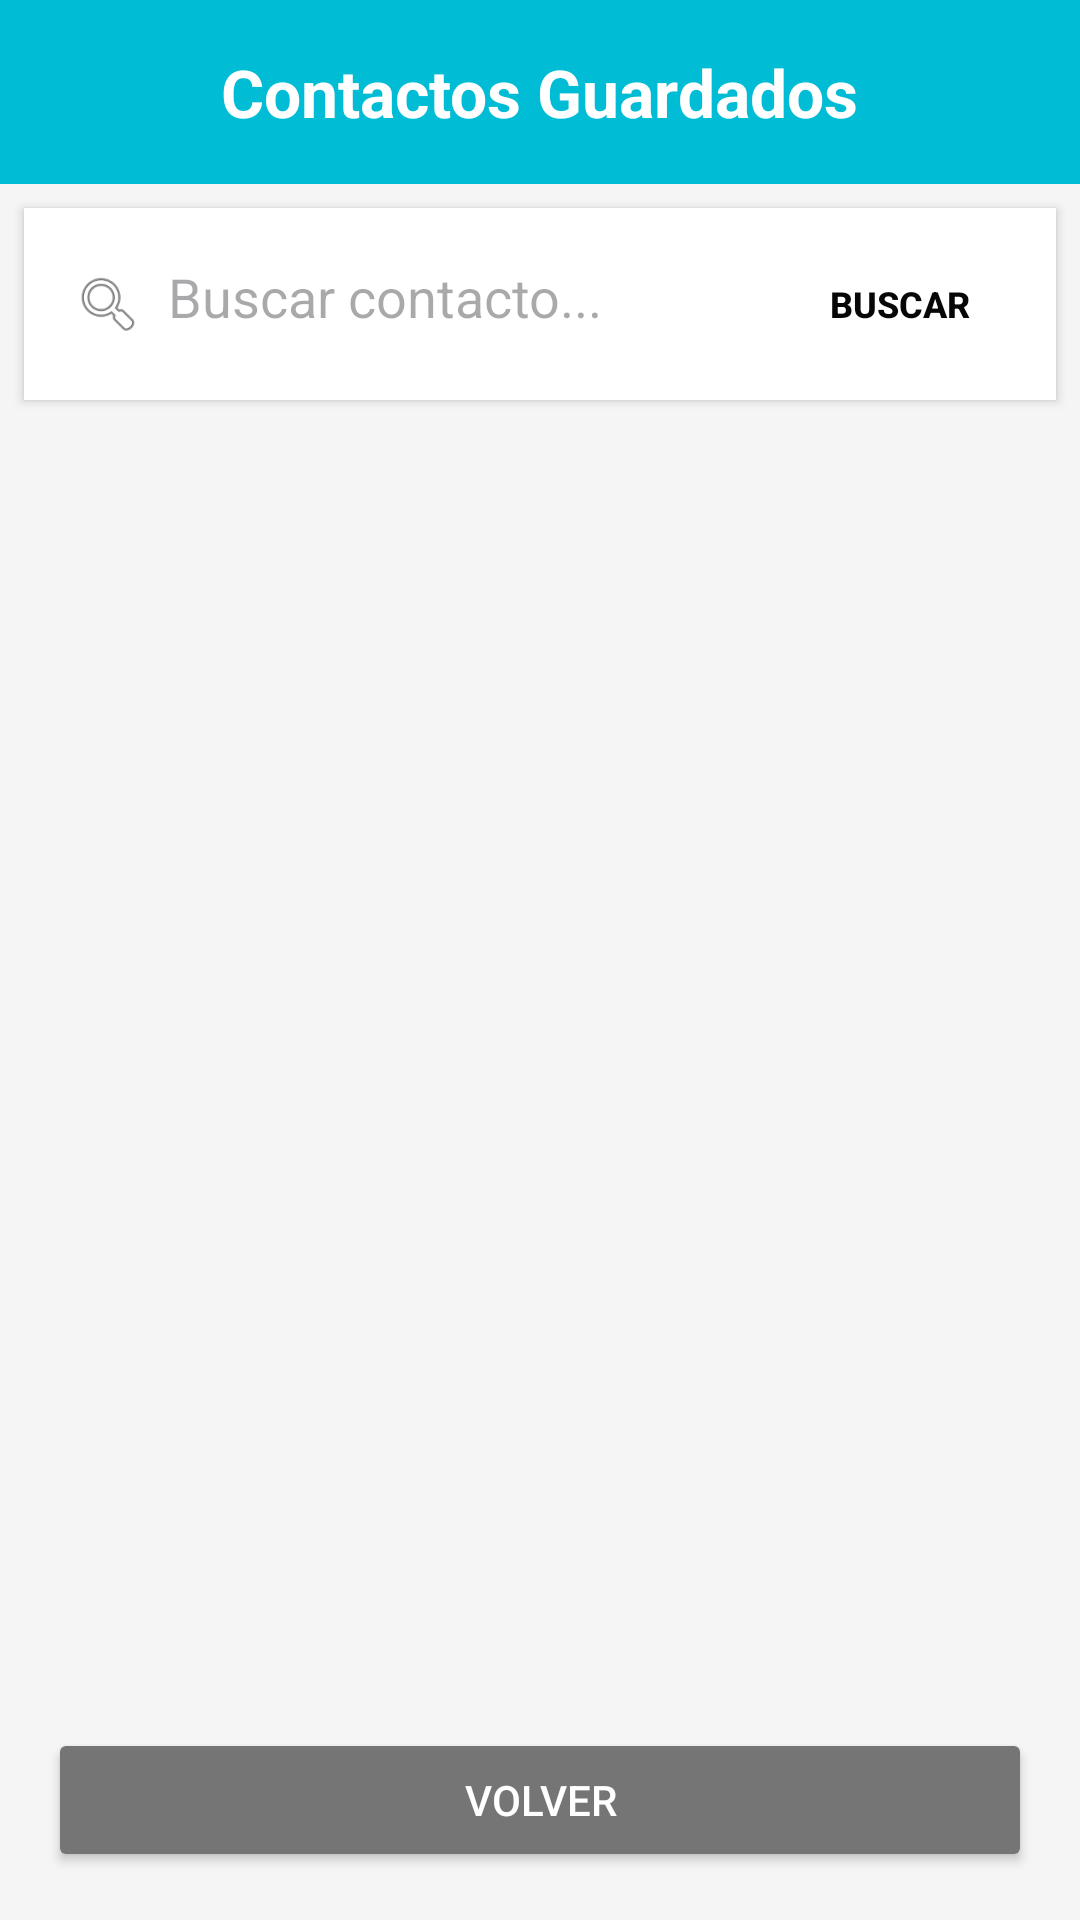

Where to tap for icons on this 1080w x 1920h app screen, as (x,y):
search: (108,304)
